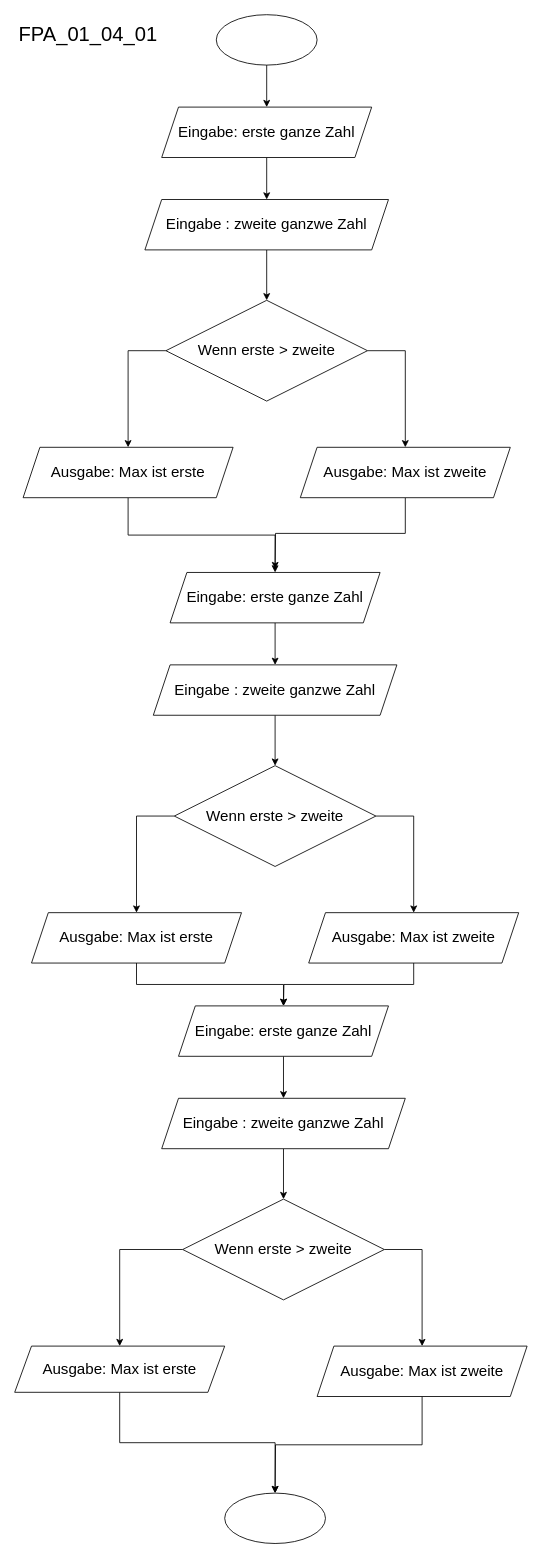
Some shapes in this 542 by 1558 pixel diagram are drawn without their labels. The box of each missing label's shape, as (x1, y1, x2, y2) in pixels:
Ende: (224, 1492, 326, 1544)
Start: (215, 14, 317, 65)
